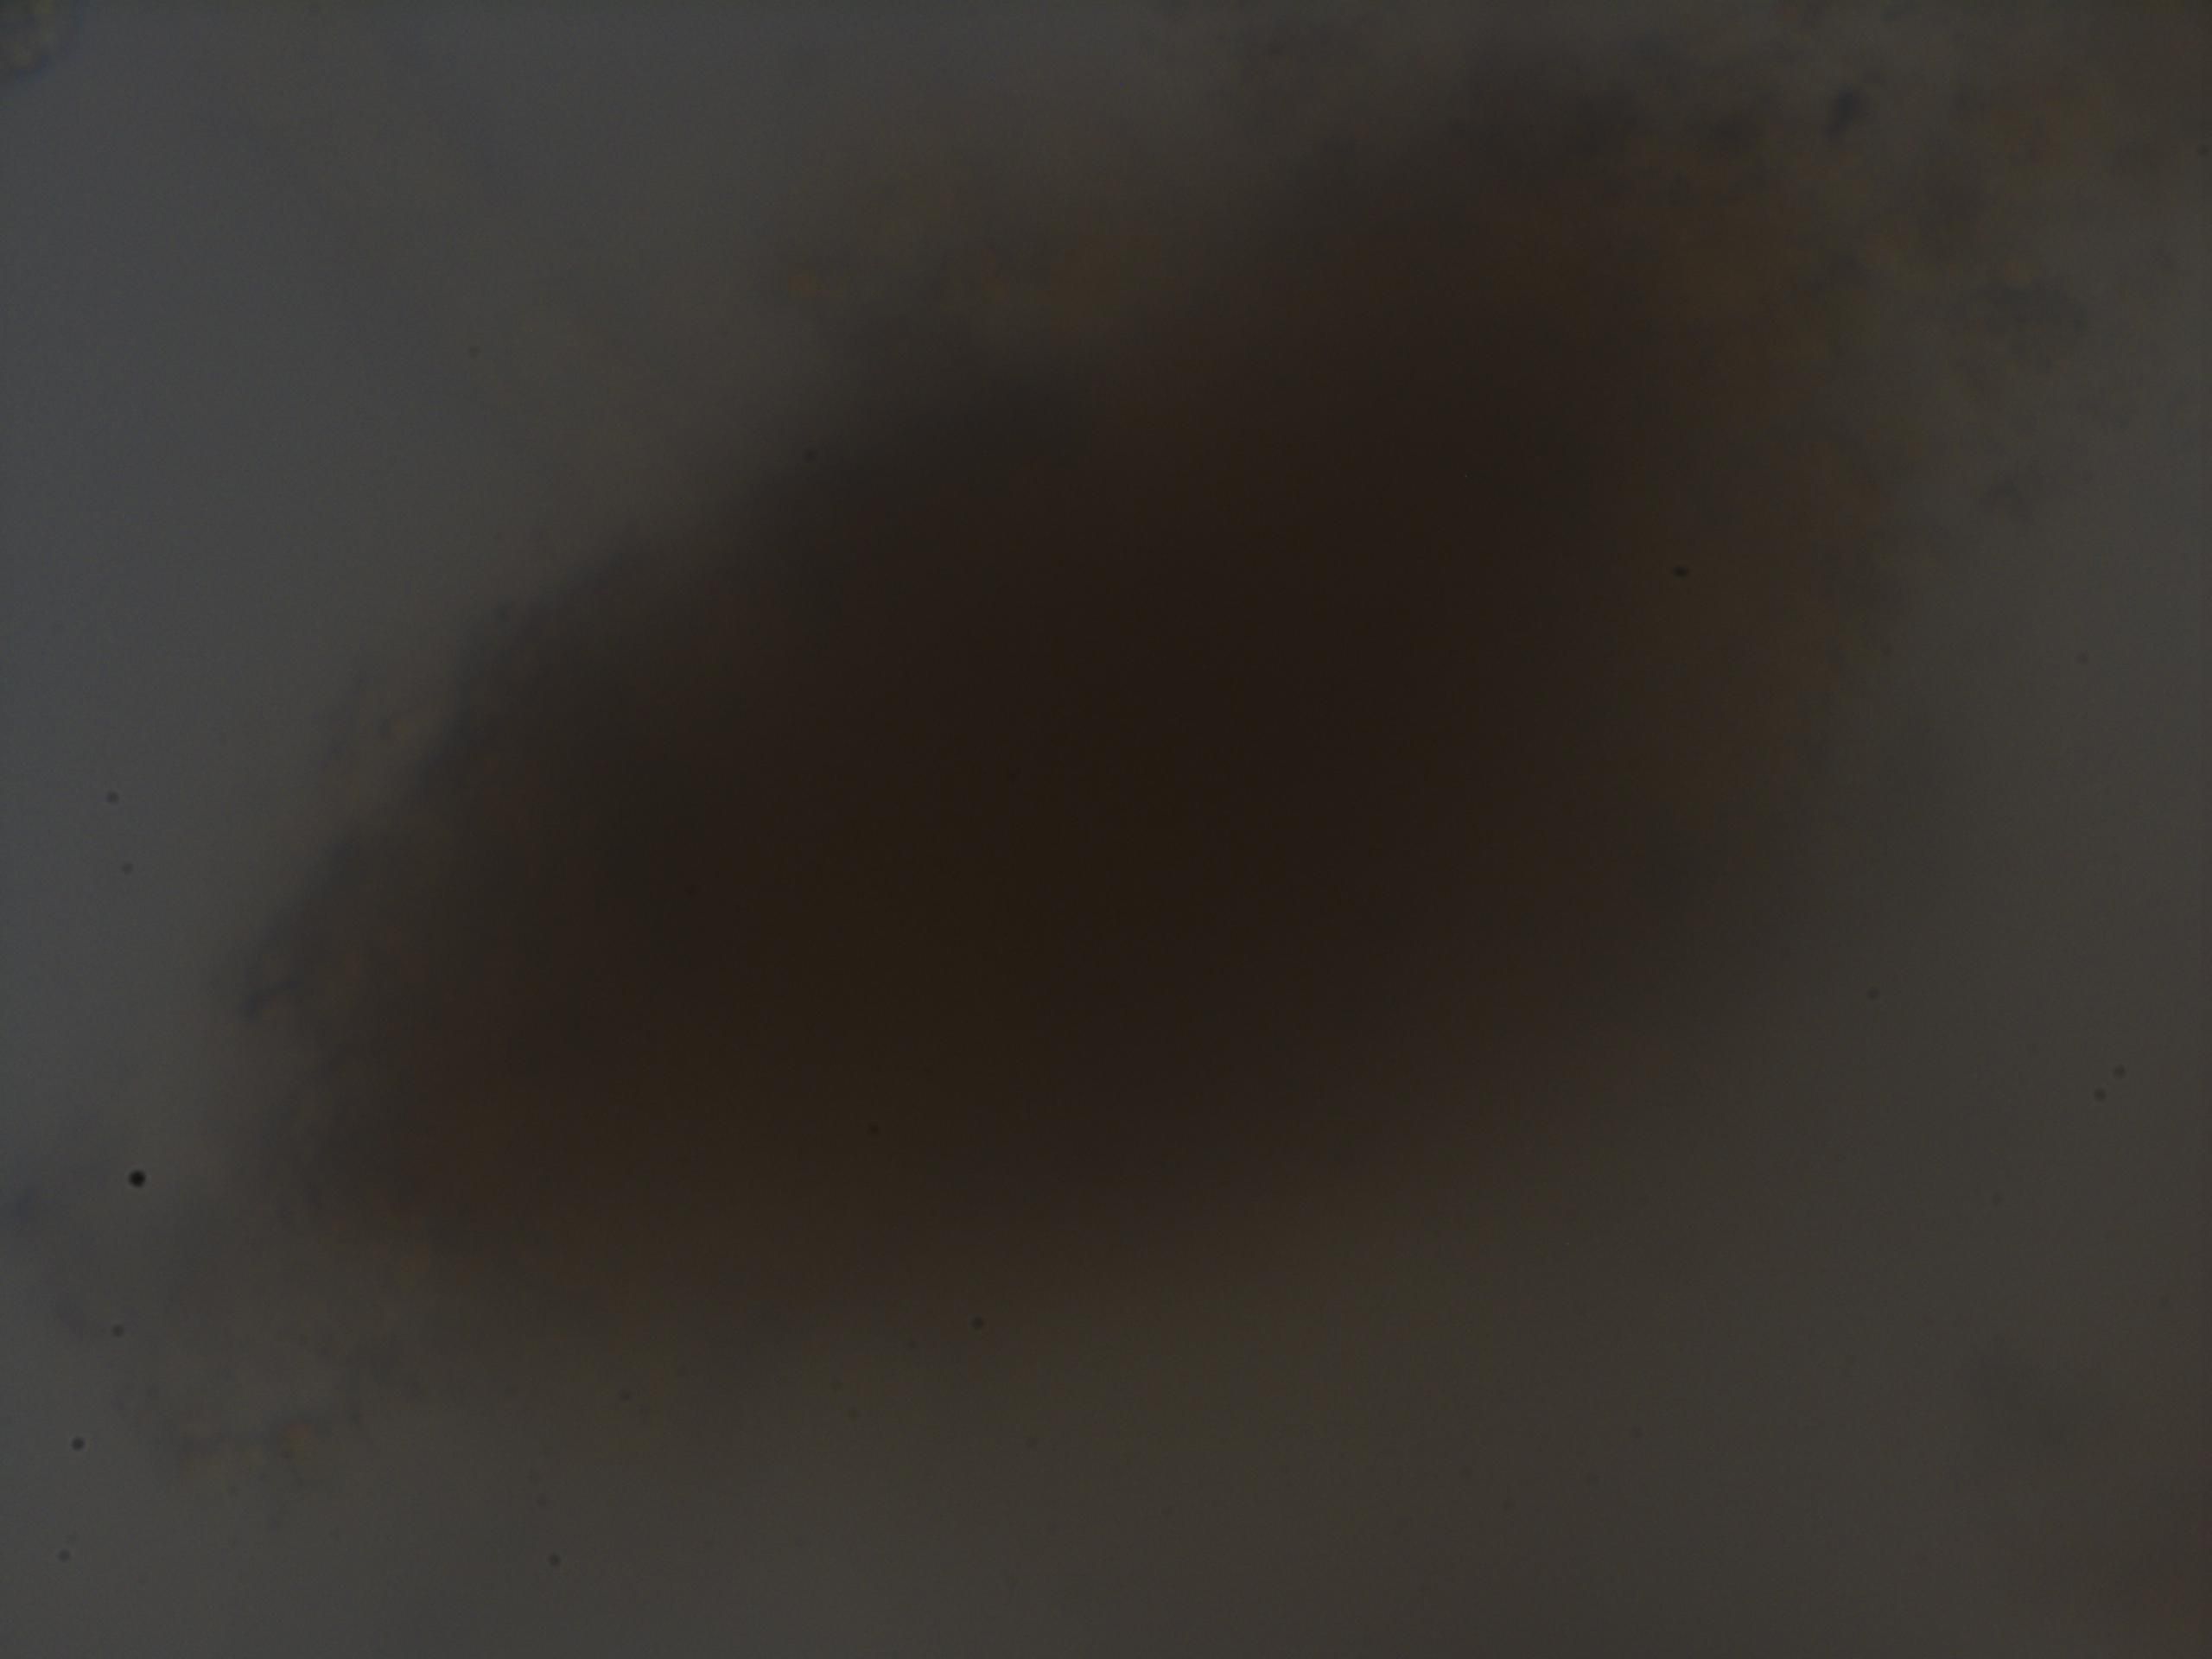spherical_floc: (284, 103, 1977, 1370)
